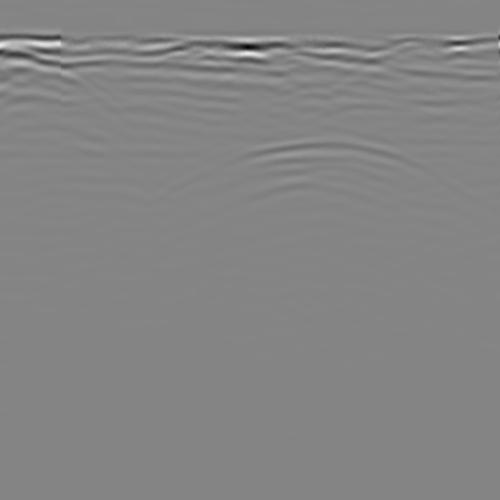hyperbola: (169, 122, 456, 232)
